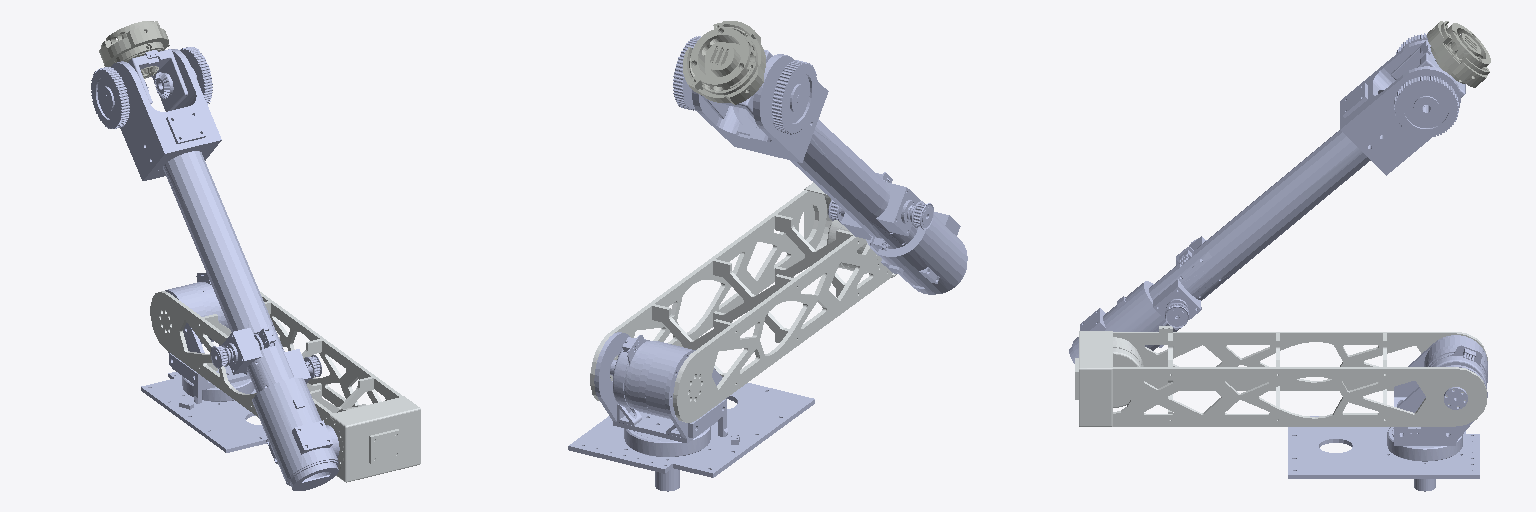
URDF robot description (Arm URDF):
<?xml version="1.0" encoding="utf-8"?>
<!-- This URDF was automatically created by SolidWorks to URDF Exporter! Originally created by [author] ([email redacted]) 
     Commit Version: 1.6.0-4-g7f85cfe  Build Version: 1.6.7995.38578
     For more information, please see http://wiki.ros.org/sw_urdf_exporter -->
<robot
  name="Arm URDF">
  <link
    name="base_link">
    <inertial>
      <origin
        xyz="0.102260898282908 0.00311121926014173 -0.156019155205669"
        rpy="0 0 0" />
      <mass
        value="0.464292173847851" />
      <inertia
        ixx="0.00212573605076349"
        ixy="-1.58264982045748E-09"
        ixz="7.37886548939061E-05"
        iyy="0.003362906184637"
        iyz="-3.37763266036709E-09"
        izz="0.00125814743738044" />
    </inertial>
    <visual>
      <origin
        xyz="0 0 0"
        rpy="0 0 0" />
      <geometry>
        <mesh
          filename="package://Arm URDF/meshes/base_link.STL" />
      </geometry>
      <material
        name="">
        <color
          rgba="0.792156862745098 0.819607843137255 0.933333333333333 1" />
      </material>
    </visual>
    <collision>
      <origin
        xyz="0 0 0"
        rpy="0 0 0" />
      <geometry>
        <mesh
          filename="package://Arm URDF/meshes/base_link.STL" />
      </geometry>
    </collision>
  </link>
  <link
    name="a1_shoulder_base">
    <inertial>
      <origin
        xyz="0.00378215343885442 -0.0301295143675391 0.0522485793592078"
        rpy="0 0 0" />
      <mass
        value="0.742438926040346" />
      <inertia
        ixx="0.000861455479041105"
        ixy="5.96555644034732E-08"
        ixz="-1.80690991931007E-07"
        iyy="0.000501485086205416"
        iyz="5.44487696156514E-05"
        izz="0.000585891248389868" />
    </inertial>
    <visual>
      <origin
        xyz="0 0 0"
        rpy="0 0 0" />
      <geometry>
        <mesh
          filename="package://Arm URDF/meshes/a1_shoulder_base.STL" />
      </geometry>
      <material
        name="">
        <color
          rgba="0.792156862745098 0.819607843137255 0.933333333333333 1" />
      </material>
    </visual>
    <collision>
      <origin
        xyz="0 0 0"
        rpy="0 0 0" />
      <geometry>
        <mesh
          filename="package://Arm URDF/meshes/a1_shoulder_base.STL" />
      </geometry>
    </collision>
  </link>
  <joint
    name="shoulder_joint"
    type="revolute">
    <origin
      xyz="0.102000000000005 0.199999999999999 0.0377499999999958"
      rpy="0 0 -3.14159265358979" />
    <parent
      link="base_link" />
    <child
      link="a1_shoulder_base" />
    <axis
      xyz="0 0 1" />
    <limit
      lower="0"
      upper="3.14"
      effort="0"
      velocity="0" />
  </joint>
  <link
    name="a2_link_1">
    <inertial>
      <origin
        xyz="-0.31663624842113 -1.47449210178979E-05 -0.00360815454079563"
        rpy="0 0 0" />
      <mass
        value="1.94678380458644" />
      <inertia
        ixx="0.00226107261095185"
        ixy="-2.32925551714859E-06"
        ixz="-7.59198207007516E-06"
        iyy="0.0391641475280286"
        iyz="-2.22699680861427E-07"
        izz="0.0402810744771899" />
    </inertial>
    <visual>
      <origin
        xyz="0 0 0"
        rpy="0 0 0" />
      <geometry>
        <mesh
          filename="package://Arm URDF/meshes/a2_link_1.STL" />
      </geometry>
      <material
        name="">
        <color
          rgba="0.898039215686275 0.917647058823529 0.929411764705882 1" />
      </material>
    </visual>
    <collision>
      <origin
        xyz="0 0 0"
        rpy="0 0 0" />
      <geometry>
        <mesh
          filename="package://Arm URDF/meshes/a2_link_1.STL" />
      </geometry>
    </collision>
  </link>
  <joint
    name="link_1_joint"
    type="revolute">
    <origin
      xyz="0.00282500000000498 -0.0450000000000385 0.074999999999904"
      rpy="1.5707963267949 0 -1.5707963267949" />
    <parent
      link="a1_shoulder_base" />
    <child
      link="a2_link_1" />
    <axis
      xyz="0 0 1" />
    <limit
      lower="-3.14"
      upper="0"
      effort="0"
      velocity="0" />
  </joint>
  <link
    name="a3_axis4_housing">
    <inertial>
      <origin
        xyz="0.0408050572850942 0.0166036738004918 0.013626708114375"
        rpy="0 0 0" />
      <mass
        value="0.258864677478161" />
      <inertia
        ixx="0.000586888644066693"
        ixy="-2.33294979362814E-05"
        ixz="-1.9661923110687E-05"
        iyy="0.000547794529378939"
        iyz="-8.27366441963137E-05"
        izz="0.000485112811184976" />
    </inertial>
    <visual>
      <origin
        xyz="0 0 0"
        rpy="0 0 0" />
      <geometry>
        <mesh
          filename="package://Arm URDF/meshes/a3_axis4_housing.STL" />
      </geometry>
      <material
        name="">
        <color
          rgba="0.792156862745098 0.819607843137255 0.933333333333333 1" />
      </material>
    </visual>
    <collision>
      <origin
        xyz="0 0 0"
        rpy="0 0 0" />
      <geometry>
        <mesh
          filename="package://Arm URDF/meshes/a3_axis4_housing.STL" />
      </geometry>
    </collision>
  </link>
  <joint
    name="link1_link2"
    type="revolute">
    <origin
      xyz="-0.50000048929394 0 -0.0677177243260161"
      rpy="0 1.5707963267949 0" />
    <parent
      link="a2_link_1" />
    <child
      link="a3_axis4_housing" />
    <axis
      xyz="-1 0 0" />
    <limit
      lower="0"
      upper="3.14"
      effort="0"
      velocity="0" />
  </joint>
  <link
    name="a4_link2">
    <inertial>
      <origin
        xyz="0.136030828721491 0.000546842367514622 -4.51545797446572E-06"
        rpy="0 0 0" />
      <mass
        value="1.31628289409256" />
      <inertia
        ixx="0.00113403420981109"
        ixy="4.65585988910263E-06"
        ixz="-8.05590249950518E-06"
        iyy="0.00735293656239522"
        iyz="-1.41717528011021E-06"
        izz="0.00800857579951489" />
    </inertial>
    <visual>
      <origin
        xyz="0 0 0"
        rpy="0 0 0" />
      <geometry>
        <mesh
          filename="package://Arm URDF/meshes/a4_link2.STL" />
      </geometry>
      <material
        name="">
        <color
          rgba="0.792156862745098 0.819607843137255 0.933333333333333 1" />
      </material>
    </visual>
    <collision>
      <origin
        xyz="0 0 0"
        rpy="0 0 0" />
      <geometry>
        <mesh
          filename="package://Arm URDF/meshes/a4_link2.STL" />
      </geometry>
    </collision>
  </link>
  <joint
    name="a4_rotation"
    type="revolute">
    <origin
      xyz="0.0451078368209206 0.205024453664939 0.223589169838865"
      rpy="-1.5707963267949 -0.828683805160042 1.5707963267949" />
    <parent
      link="a3_axis4_housing" />
    <child
      link="a4_link2" />
    <axis
      xyz="-1 0 0" />
    <limit
      lower="-1.57"
      upper="1.57"
      effort="0"
      velocity="0" />
  </joint>
  <link
    name="a5_internal_upright">
    <inertial>
      <origin
        xyz="0.0267788794933879 0.00778879051640191 0.00761484691204106"
        rpy="0 0 0" />
      <mass
        value="0.155027470866593" />
      <inertia
        ixx="0.000136622337027725"
        ixy="6.10645954856297E-11"
        ixz="3.61706386147426E-10"
        iyy="0.000142526377187093"
        iyz="6.76148687425445E-06"
        izz="0.000139936433421289" />
    </inertial>
    <visual>
      <origin
        xyz="0 0 0"
        rpy="0 0 0" />
      <geometry>
        <mesh
          filename="package://Arm URDF/meshes/a5_internal_upright.STL" />
      </geometry>
      <material
        name="">
        <color
          rgba="0.792156862745098 0.819607843137255 0.933333333333333 1" />
      </material>
    </visual>
    <collision>
      <origin
        xyz="0 0 0"
        rpy="0 0 0" />
      <geometry>
        <mesh
          filename="package://Arm URDF/meshes/a5_internal_upright.STL" />
      </geometry>
    </collision>
  </link>
  <joint
    name="a5_rotation"
    type="revolute">
    <origin
      xyz="0.31694 0 0.024001"
      rpy="0.74211 1.5708 0" />
    <parent
      link="a4_link2" />
    <child
      link="a5_internal_upright" />
    <axis
      xyz="1 0 0" />
    <limit
      lower="-3.14"
      upper="3.14"
      effort="0"
      velocity="0" />
  </joint>
  <link
    name="a6_EE_holder">
    <inertial>
      <origin
        xyz="0.0227263684366685 -2.15736821771728E-05 -1.75136141242378E-05"
        rpy="0 0 0" />
      <mass
        value="0.268420822776766" />
      <inertia
        ixx="0.000349666326455495"
        ixy="9.9760526204005E-08"
        ixz="8.70770152470093E-08"
        iyy="0.000202174421912639"
        iyz="4.38120243676362E-08"
        izz="0.000202694150421495" />
    </inertial>
    <visual>
      <origin
        xyz="0 0 0"
        rpy="0 0 0" />
      <geometry>
        <mesh
          filename="package://Arm URDF/meshes/a6_EE_holder.STL" />
      </geometry>
      <material
        name="">
        <color
          rgba="0.756862745098039 0.768627450980392 0.752941176470588 1" />
      </material>
    </visual>
    <collision>
      <origin
        xyz="0 0 0"
        rpy="0 0 0" />
      <geometry>
        <mesh
          filename="package://Arm URDF/meshes/a6_EE_holder.STL" />
      </geometry>
    </collision>
  </link>
  <joint
    name="a6_rotation"
    type="continuous">
    <origin
      xyz="0.024 0.031992 0.030931"
      rpy="-1.5708 -0.76854 1.5708" />
    <parent
      link="a5_internal_upright" />
    <child
      link="a6_EE_holder" />
    <axis
      xyz="-1 0 0" />
    <limit
      lower="0"
      upper="0"
      effort="0"
      velocity="0" />
  </joint>
</robot>

--- Render facts (derived) ---
3 views of the same robot in one strip: view 1: azimuth 30°, elevation 25°; view 2: azimuth 150°, elevation 25°; view 3: azimuth 270°, elevation 25° (orthographic).
Robot: Arm URDF — 7 links, 6 joints (5 revolute, 1 continuous); root link base_link; default pose: every joint at zero.
Links seen in each view (by area): view 1: a4_link2, a2_link_1, a3_axis4_housing, base_link, a1_shoulder_base, a6_EE_holder, a5_internal_upright; view 2: a2_link_1, a4_link2, base_link, a1_shoulder_base, a6_EE_holder, a3_axis4_housing, a5_internal_upright; view 3: a2_link_1, a4_link2, base_link, a1_shoulder_base, a6_EE_holder, a3_axis4_housing, a5_internal_upright.
Link boxes in pixels (x1=…): a4_link2: x1=91, y1=47, x2=321, y2=393; a2_link_1: x1=150, y1=291, x2=420, y2=482; a3_axis4_housing: x1=252, y1=378, x2=339, y2=490; base_link: x1=141, y1=372, x2=267, y2=452; a1_shoulder_base: x1=165, y1=273, x2=250, y2=403; a6_EE_holder: x1=99, y1=21, x2=169, y2=78; a5_internal_upright: x1=104, y1=49, x2=187, y2=111; a2_link_1: x1=590, y1=182, x2=896, y2=422; a4_link2: x1=673, y1=36, x2=933, y2=251; base_link: x1=568, y1=383, x2=814, y2=491; a1_shoulder_base: x1=594, y1=332, x2=727, y2=443; a6_EE_holder: x1=683, y1=21, x2=765, y2=104; a3_axis4_housing: x1=866, y1=203, x2=967, y2=294; a5_internal_upright: x1=701, y1=50, x2=801, y2=118; a2_link_1: x1=1075, y1=326, x2=1487, y2=426; a4_link2: x1=1149, y1=33, x2=1460, y2=329; base_link: x1=1288, y1=416, x2=1479, y2=491; a1_shoulder_base: x1=1394, y1=335, x2=1487, y2=445; a6_EE_holder: x1=1427, y1=21, x2=1490, y2=87; a3_axis4_housing: x1=1069, y1=281, x2=1181, y2=363; a5_internal_upright: x1=1391, y1=41, x2=1465, y2=97.
Bounding box of the posed robot: 0.2956 × 0.6153 × 0.6894 m (x, y, z).
Meshes: 7 distinct files referenced, 7 mesh visuals loaded (7 binary STL).